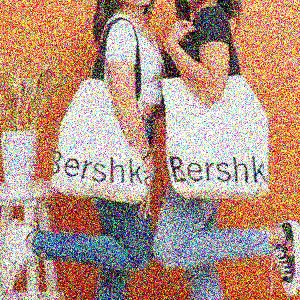bershka: (31, 114, 300, 264), (131, 75, 177, 218)
